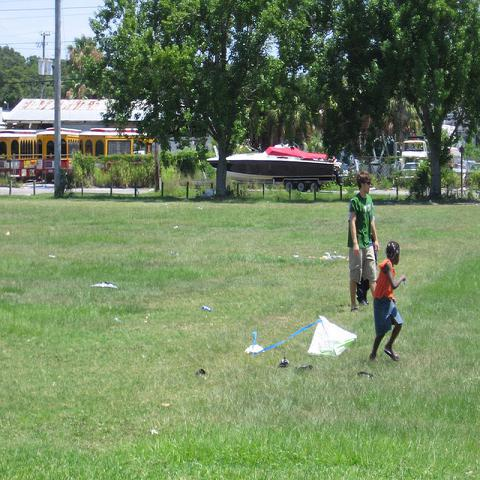bus: (79, 127, 160, 167), (35, 127, 82, 186), (0, 129, 35, 182)
car: (401, 163, 420, 175), (465, 161, 479, 176), (452, 162, 461, 176)
truck: (440, 146, 470, 176), (402, 140, 426, 158), (465, 160, 476, 176)
